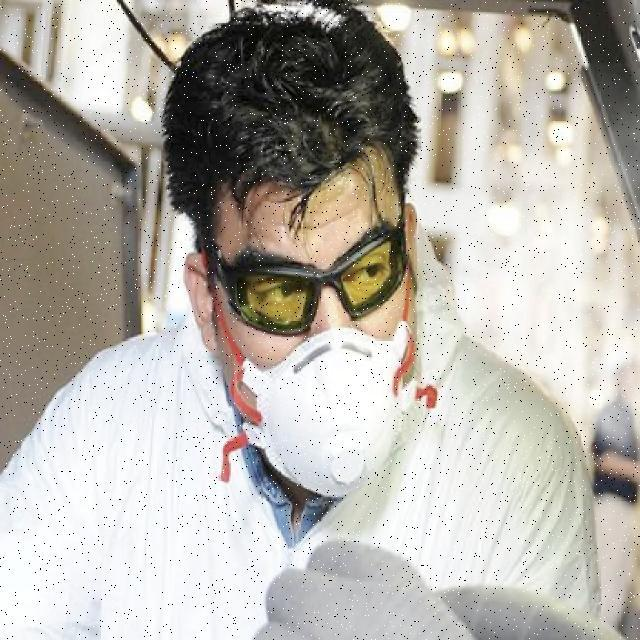Goggles: (174, 202, 437, 374)
